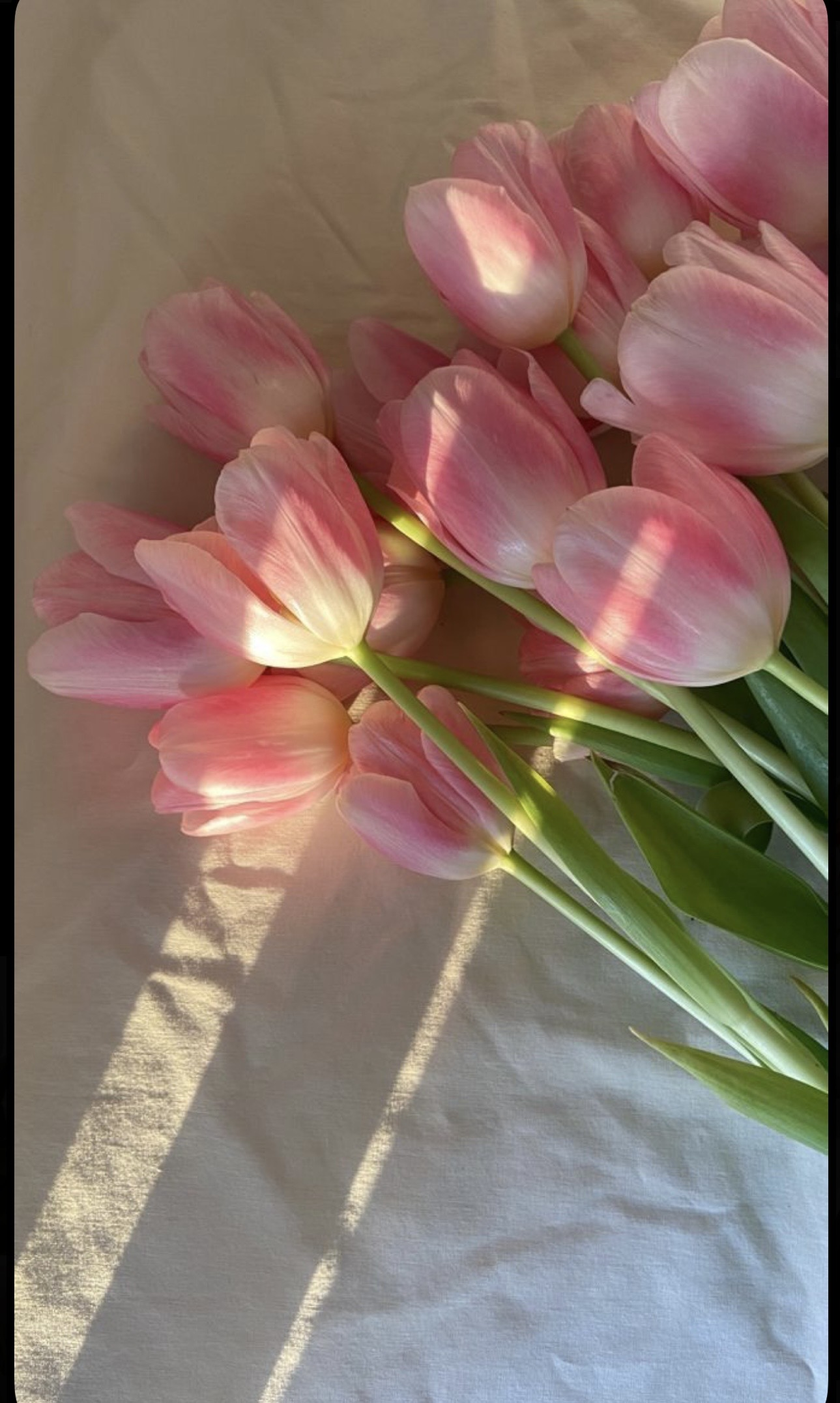tulip: (525, 419, 799, 692), (570, 218, 831, 478), (381, 341, 622, 622), (16, 483, 293, 724), (139, 416, 387, 680), (521, 82, 721, 376), (390, 105, 592, 396), (625, 0, 827, 265), (133, 271, 346, 480), (331, 681, 523, 892), (140, 665, 355, 851)
